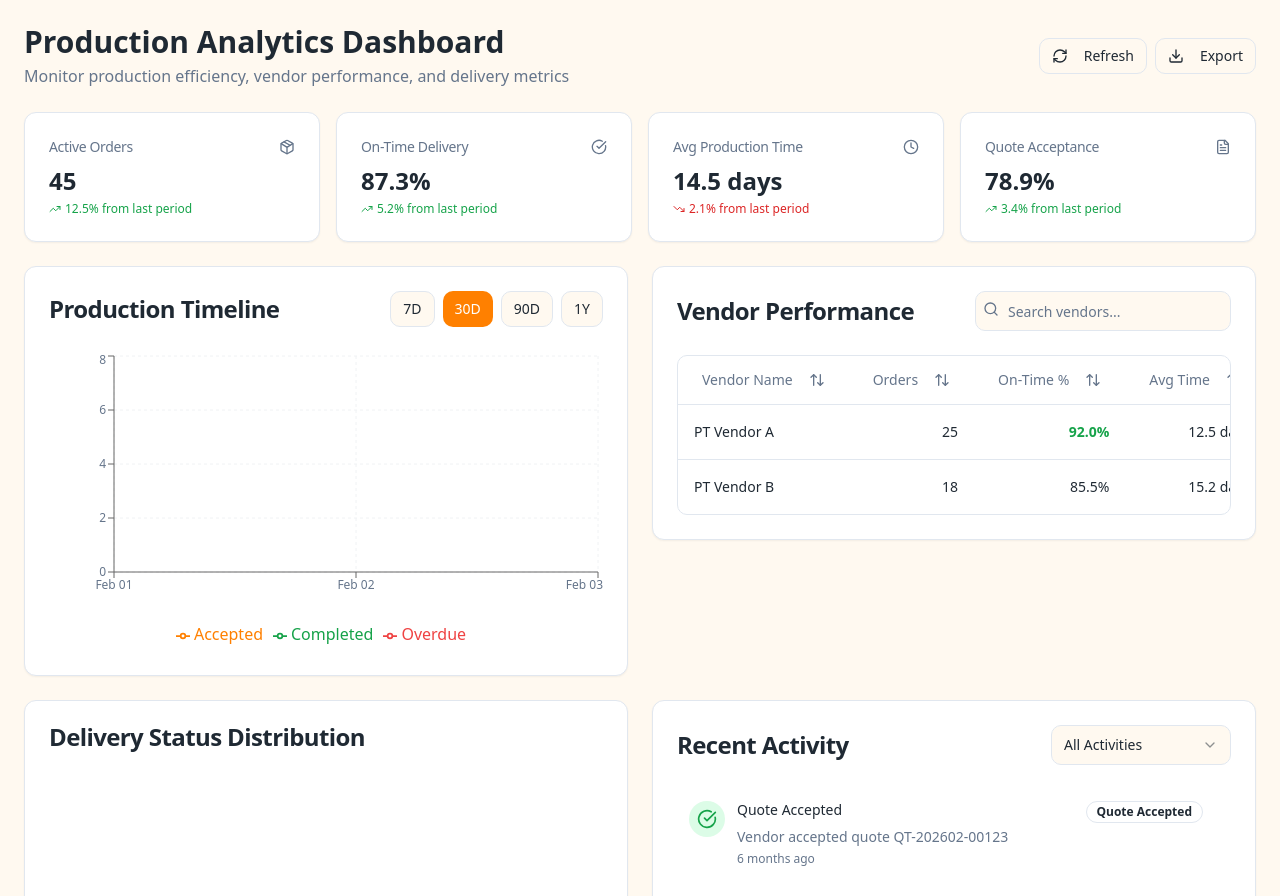
Test: AnalyticsDashboard Integration Tests › opens export dialog when export button clicked
Expected: the text "45" is shown, 49,164 -> 76,197
Click export button
Click the button "Export" at (1205, 56), box 1155,38 -> 1256,74
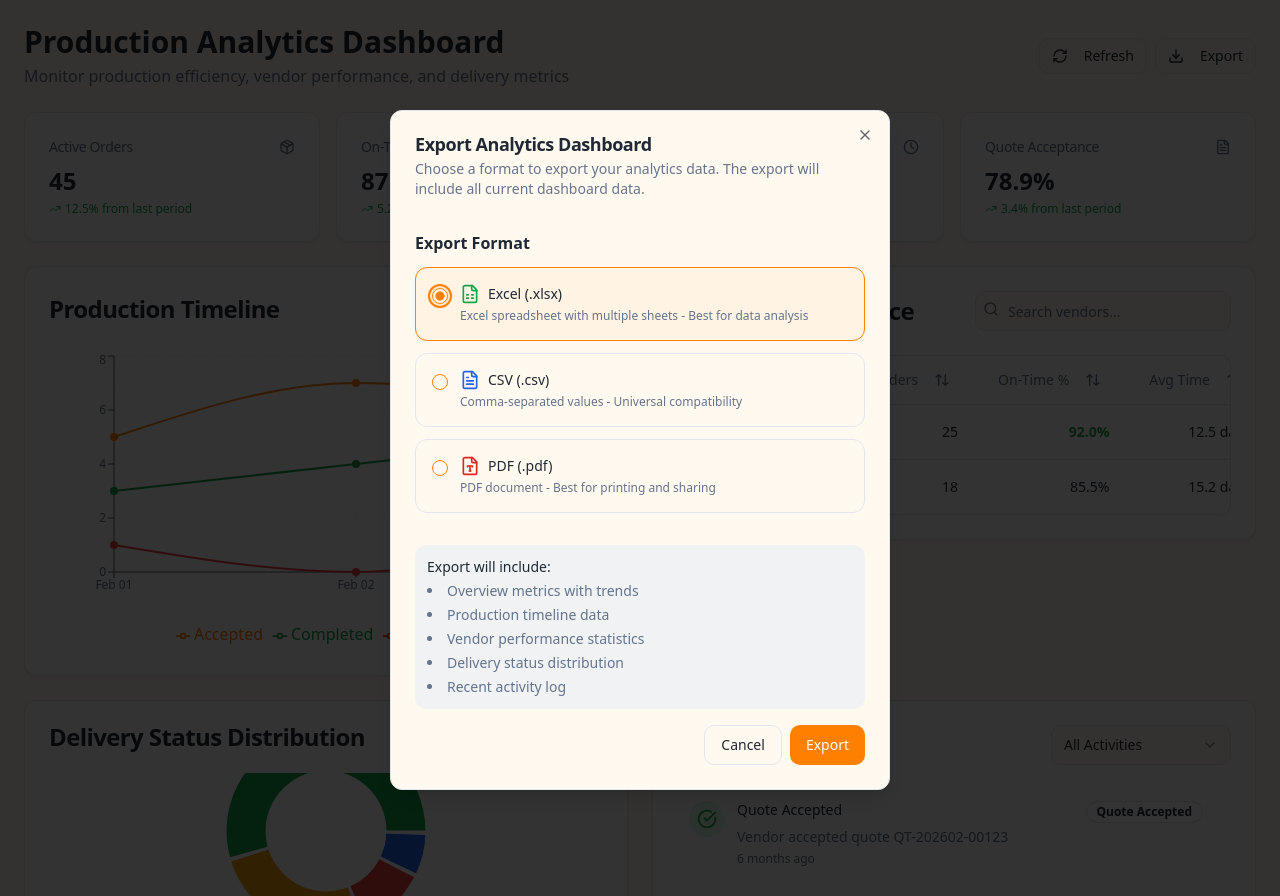
Now the text "CSV (.csv)" is shown, box 488,370 -> 549,390
